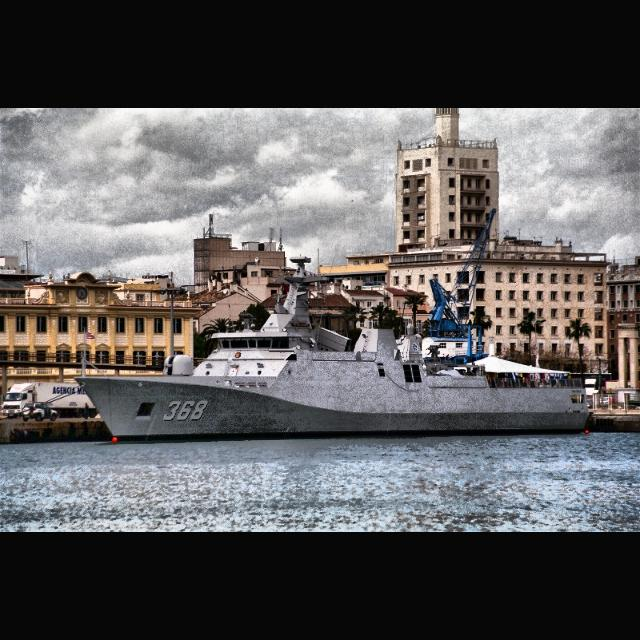combat_vessel: (73, 254, 592, 448)
